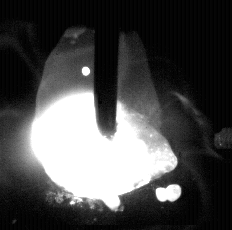arame: (95, 0, 119, 140)
poca: (29, 0, 169, 230)
